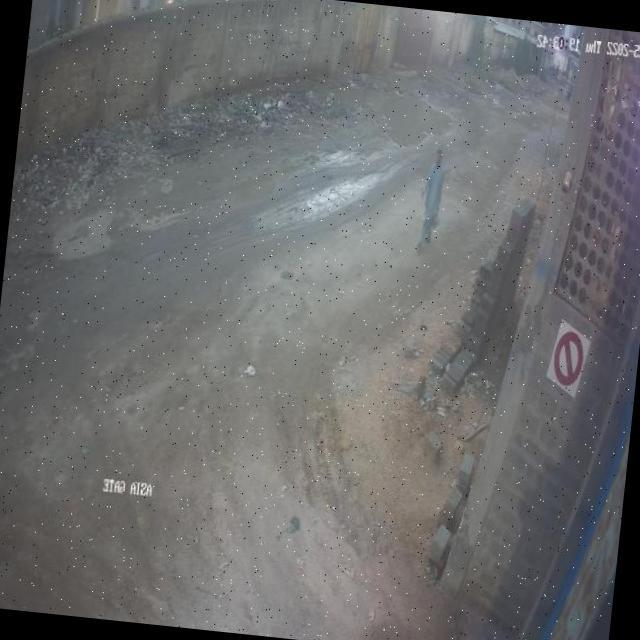person: (413, 138, 446, 258)
